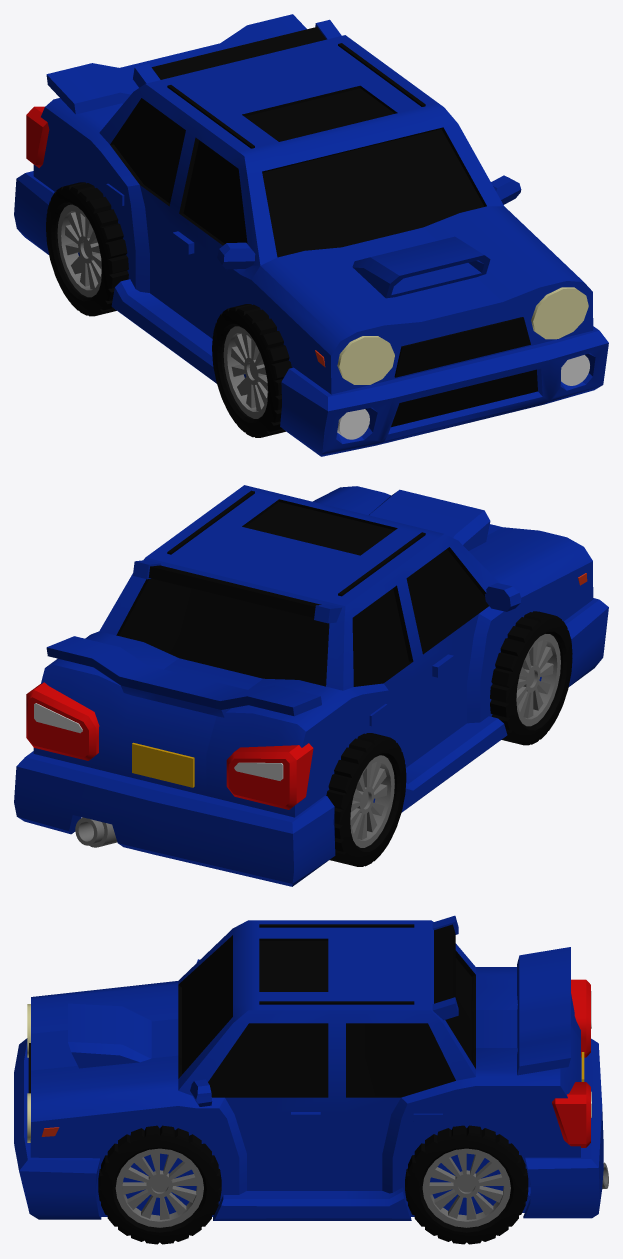
The model's file is Car.fbx.
3 views of the same model, one above another, from view 1: azimuth 30°, elevation 25°; view 2: azimuth 150°, elevation 25°; view 3: azimuth 270°, elevation 25° (orthographic). The views are drawn at different scales.
Visible parts, largest first — view 1: body, RearWheels, Right_FrontWheel; view 2: body, Right_FrontWheel, RearWheels; view 3: body, RearWheels, Left_FrontWheel.
Boxes of the visible parts, bbox=[...] form: body: bbox=[14, 14, 608, 456]; RearWheels: bbox=[46, 182, 128, 316]; Right_FrontWheel: bbox=[212, 304, 291, 437]; body: bbox=[14, 485, 608, 886]; Right_FrontWheel: bbox=[490, 611, 572, 745]; RearWheels: bbox=[326, 733, 406, 866]; body: bbox=[14, 915, 608, 1220]; RearWheels: bbox=[405, 1125, 528, 1244]; Left_FrontWheel: bbox=[98, 1125, 221, 1244].
Size of the model in its own units: 232 by 175 by 432.
